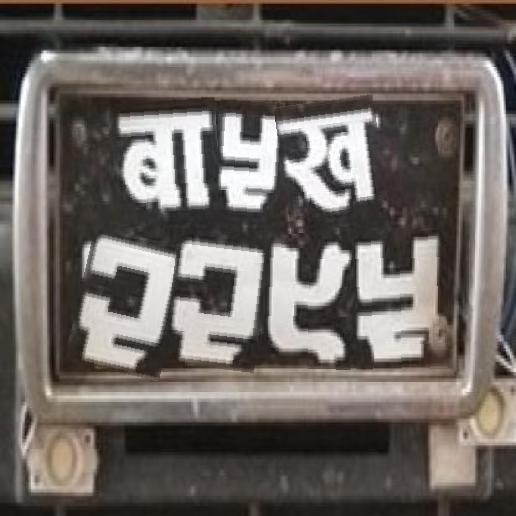2: (71, 230, 182, 377), (167, 232, 267, 371)
5: (353, 231, 447, 371), (214, 99, 283, 222)
9: (262, 234, 354, 369)
ba: (114, 99, 222, 226)
kha: (278, 98, 386, 232)
